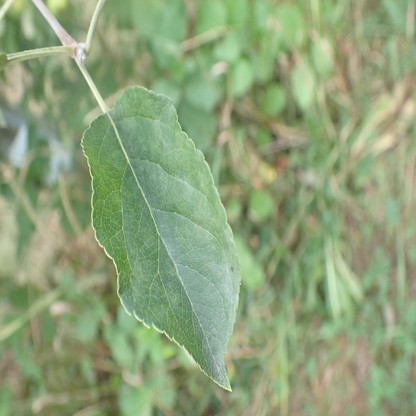powder: (101, 84, 241, 393)
